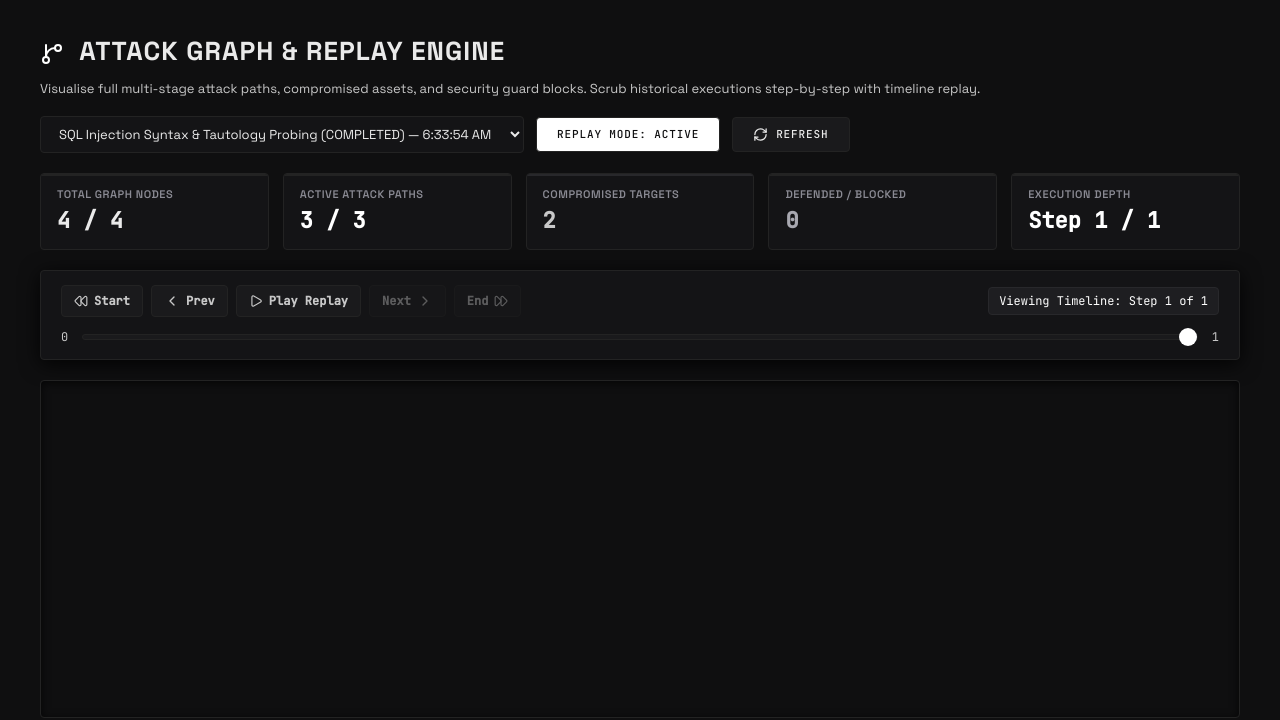
Test: AttackGraphPage (Phase 10 — Attack Graph & Replay Engine) › renders React Flow canvas and replay controller with timeline controls
This screenshot has width=1280, height=720.
Expected: the text "Viewing Timeline: Step 1 of 1" is shown, 988,287 -> 1219,315
Expected: the button "Start" is shown, 61,285 -> 143,317
# Click Prev button to step backward to Step 0
Click the button "Prev": (189, 301) 151,285 -> 228,317
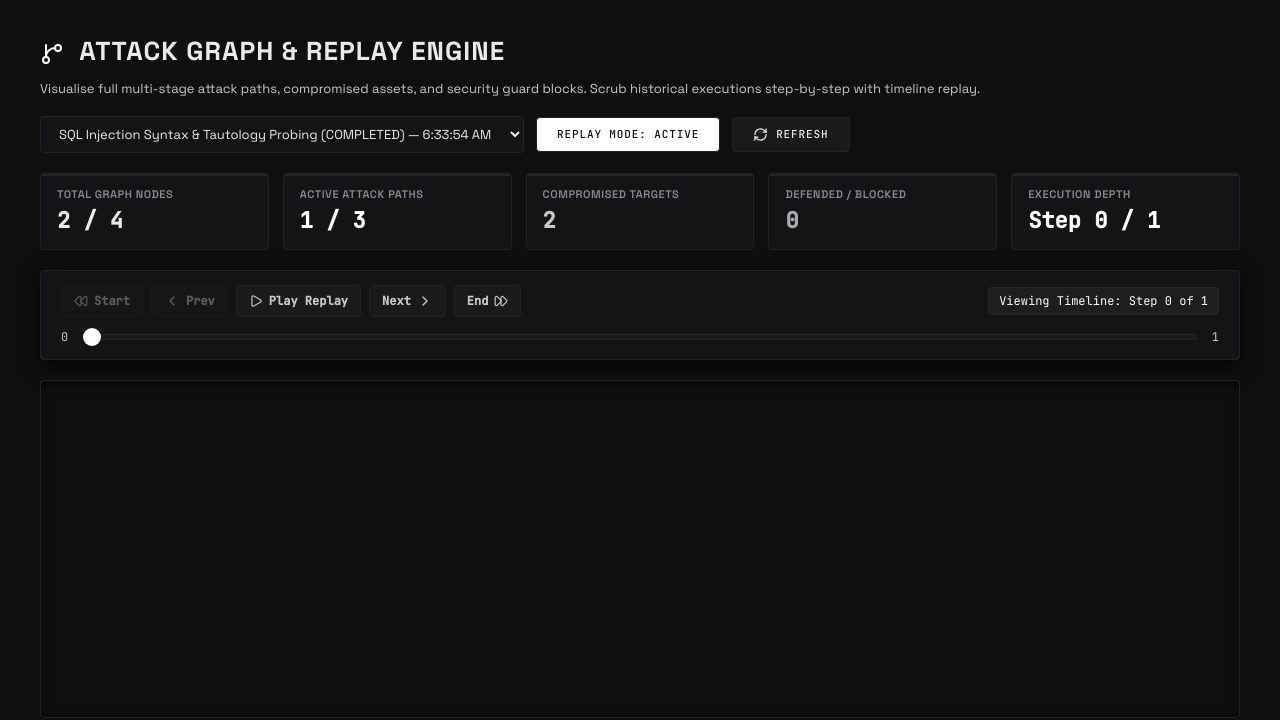
Result: the text "Viewing Timeline: Step 0 of 1" is shown at 988,287 -> 1219,315
